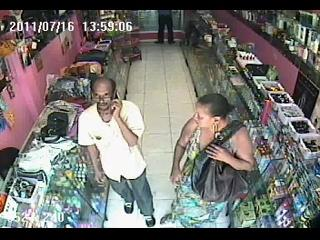Normal: (160, 93, 256, 226), (77, 76, 156, 226), (154, 10, 176, 44), (74, 50, 110, 66)
